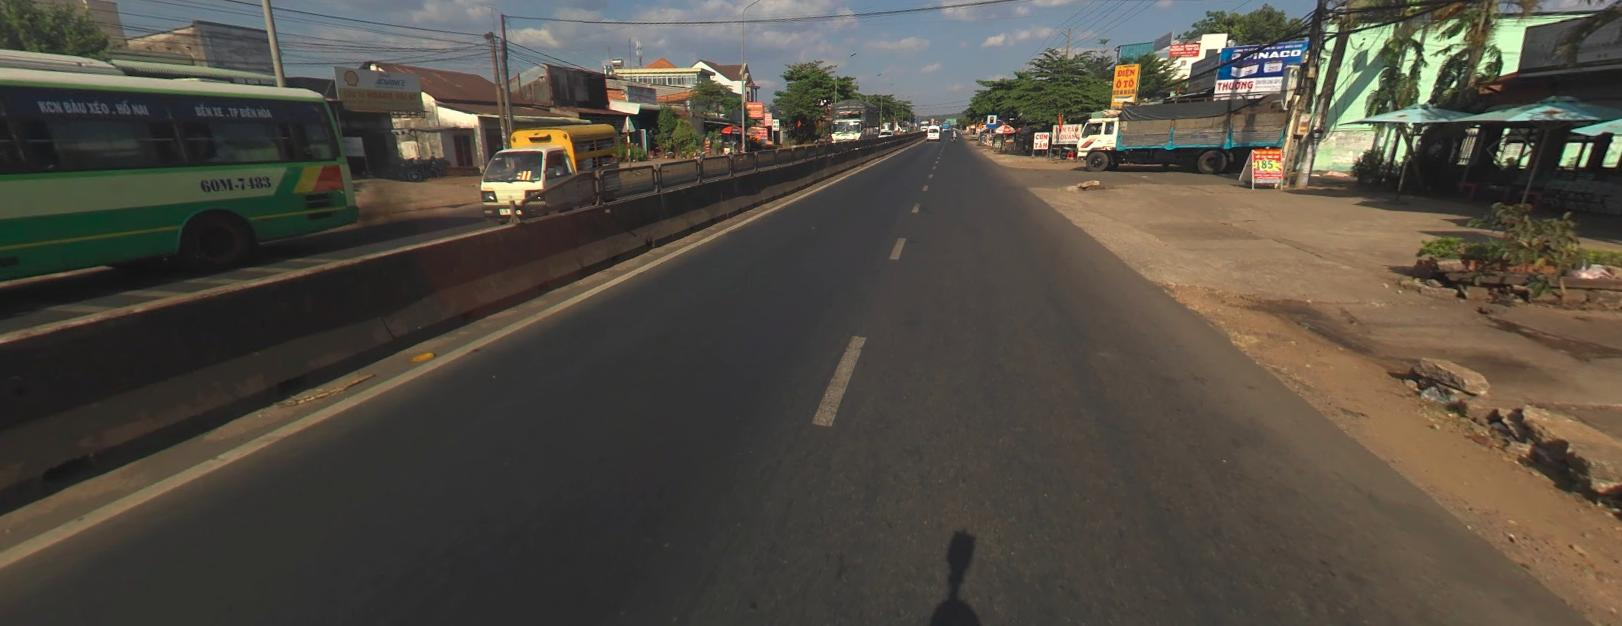Nguy hiem: (977, 121, 984, 128)
